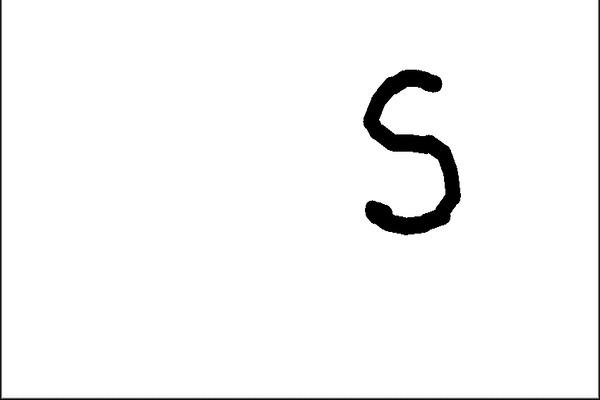S: (353, 61, 467, 232)
